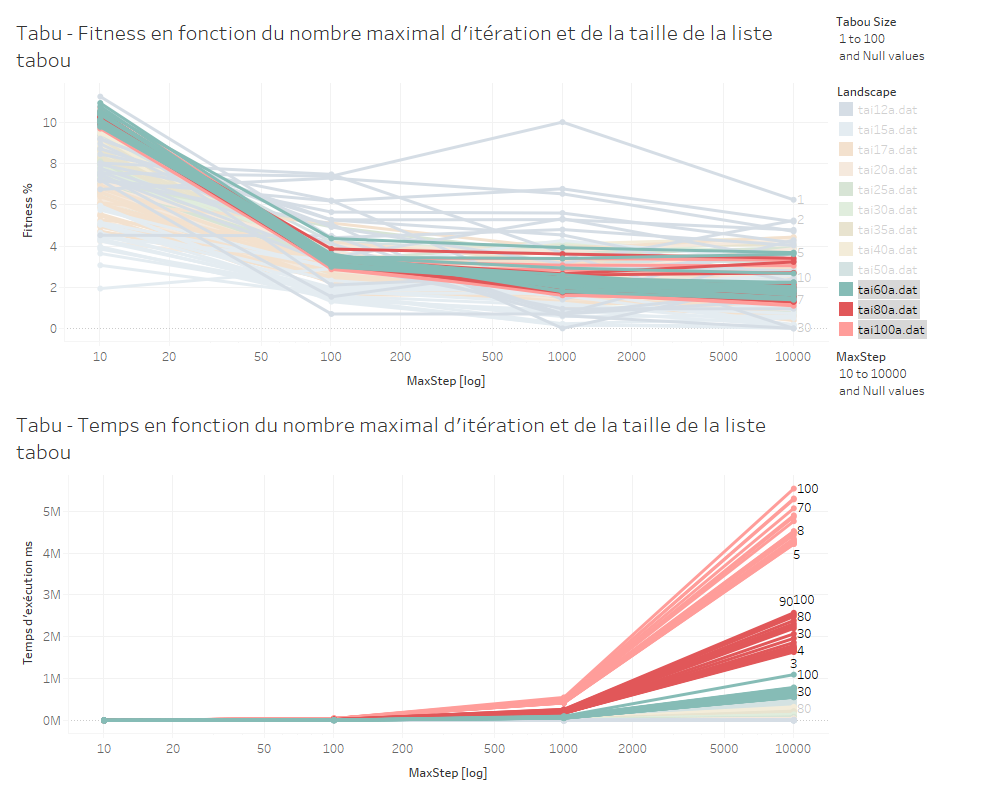

What the dashboard file says about the page in this screenshot:
{"tool":"tableau","page":{"name":"Tabou","canvas":[1000,800],"ordinal":3},"visuals":[{"type":"worksheet","title":"Tabu - Fitness","mark":"Line","rows":["Calculation_1762314897165828103"],"cols":["F5"],"box":[8,8,824,392]},{"type":"filter","title":"Tabu - Fitness","param":"[federated.03turzu08qkt3f10d8nm71bupa7h].[none:F7:qk]","box":[832,8,160,69]},{"type":"legend","title":"Tabu - Fitness","param":"[federated.03turzu08qkt3f10d8nm71bupa7h].[none:F1:nk]","box":[832,77,160,266]},{"type":"filter","title":"Tabu - Temps","param":"[federated.03turzu08qkt3f10d8nm71bupa7h].[none:F5:qk]","box":[832,343,160,69]},{"type":"worksheet","title":"Tabu - Temps","mark":"Line","rows":["Calculation_1762314897165783046"],"cols":["F5"],"box":[8,400,824,392]}]}

Visuals, with their boxes in screenshot pixels (x1, y1, x2, y2), scaled from the page's 1000x800 canvas onto the 1000x800 screenshot:
"Tabu - Fitness" worksheet (Line marks): x1=8 y1=8 x2=832 y2=400
"Tabu - Fitness" filter: x1=832 y1=8 x2=992 y2=77
"Tabu - Fitness" legend: x1=832 y1=77 x2=992 y2=343
"Tabu - Temps" filter: x1=832 y1=343 x2=992 y2=412
"Tabu - Temps" worksheet (Line marks): x1=8 y1=400 x2=832 y2=792
